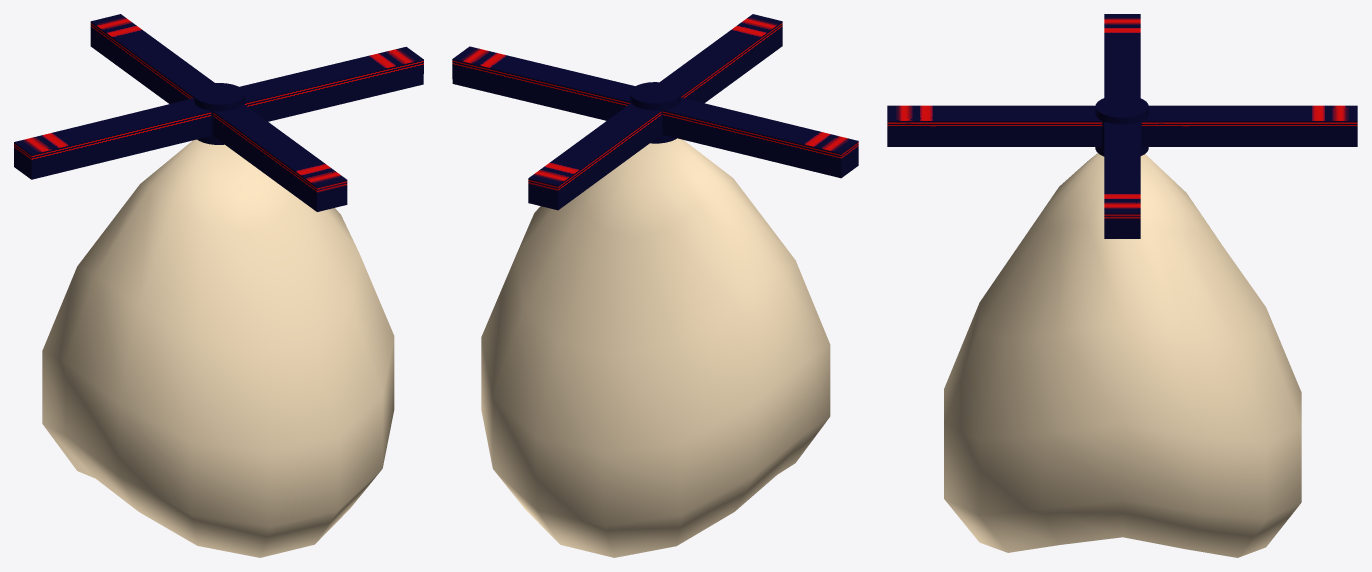
Rendered from lowpoly_ballcopterv01.fbx.
The picture shows the model from 3 angles, left to right: view 1: azimuth 30°, elevation 25°; view 2: azimuth 150°, elevation 25°; view 3: azimuth 270°, elevation 25°; orthographic projection. The views are drawn at different scales.
Parts seen in each view (by area): view 1: Balls, Rotor2, Rotor1, Rotor3, Rotor4, Prong; view 2: Balls, Rotor2, Rotor1, Rotor4, Rotor3, Prong; view 3: Balls, Rotor4, Rotor3, Rotor1, Rotor2, Prong.
Boxes of the visible parts, left/top/right/bottom form: Balls: left=42, top=139, right=394, bottom=557; Rotor2: left=14, top=98, right=211, bottom=179; Rotor1: left=239, top=46, right=423, bottom=121; Rotor3: left=213, top=104, right=347, bottom=211; Rotor4: left=90, top=14, right=214, bottom=103; Prong: left=193, top=83, right=244, bottom=144; Balls: left=481, top=138, right=830, bottom=557; Rotor2: left=662, top=97, right=858, bottom=178; Rotor1: left=452, top=46, right=634, bottom=120; Rotor4: left=528, top=103, right=661, bottom=210; Rotor3: left=660, top=14, right=782, bottom=103; Prong: left=630, top=82, right=680, bottom=143; Balls: left=944, top=153, right=1301, bottom=557; Rotor4: left=1141, top=105, right=1357, bottom=146; Rotor3: left=887, top=105, right=1102, bottom=146; Rotor1: left=1104, top=121, right=1140, bottom=238; Rotor2: left=1104, top=14, right=1140, bottom=97; Prong: left=1095, top=95, right=1148, bottom=156.
Size of the model in its own units: 488 by 490 by 488.
Materials: 6 (4 with a texture image).
